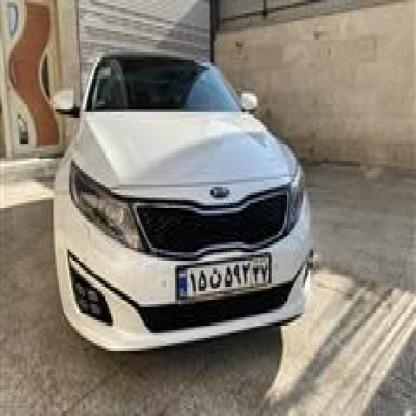Car: (49, 26, 317, 369)
